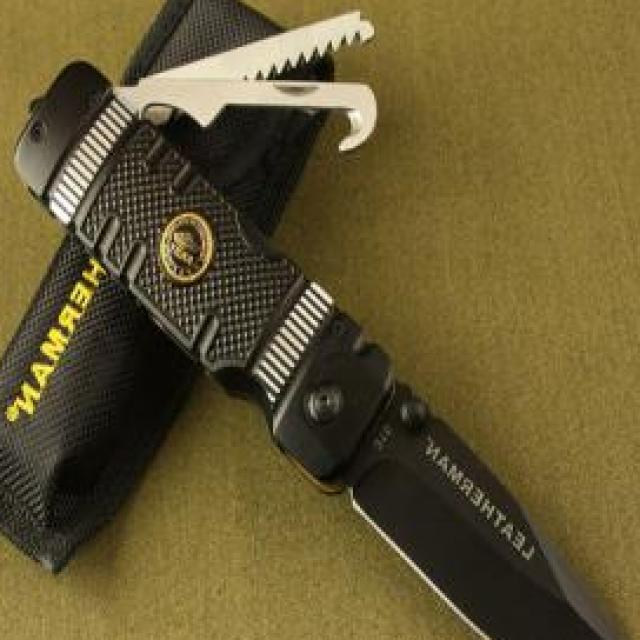knife: (344, 369, 640, 639)
